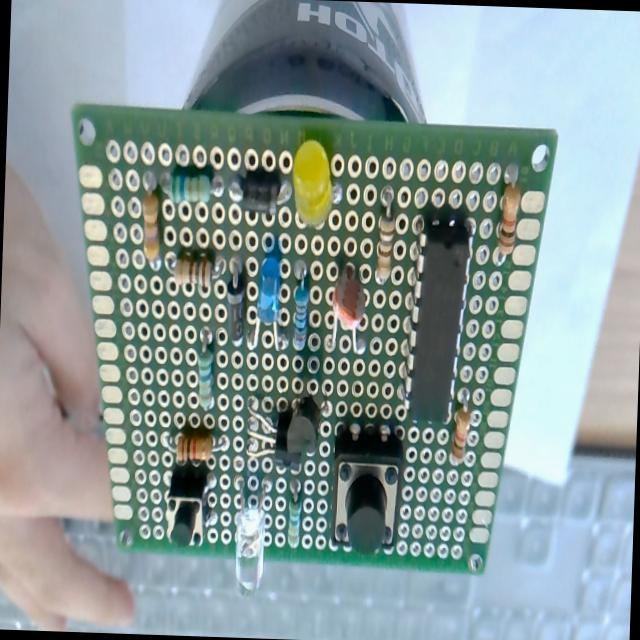IC: (406, 218, 469, 424)
cds: (326, 269, 367, 357)
diode: (232, 168, 282, 215), (226, 272, 247, 347)
led: (231, 478, 270, 594), (289, 136, 335, 226), (254, 256, 284, 351)
resistor: (374, 188, 396, 279), (496, 183, 520, 258), (174, 254, 214, 290), (140, 193, 161, 260), (171, 170, 212, 204), (175, 429, 213, 465), (292, 282, 310, 352), (196, 348, 216, 410), (451, 406, 470, 462), (286, 498, 302, 548)
switch: (329, 428, 403, 556), (166, 468, 210, 548)
transistor: (242, 395, 324, 471), (286, 395, 322, 462)
